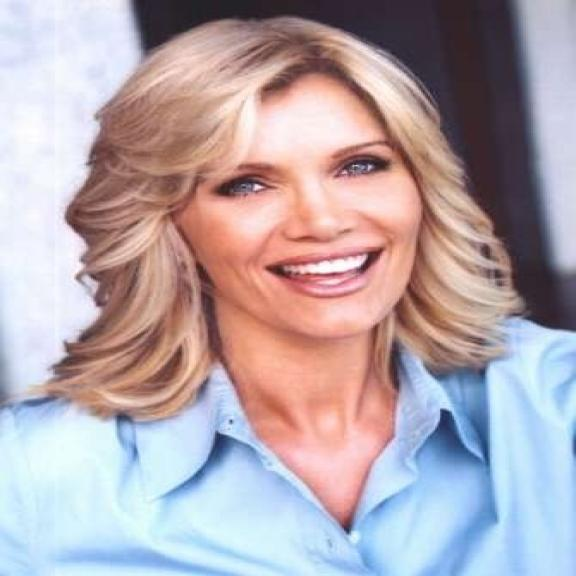face: (128, 59, 435, 348)
